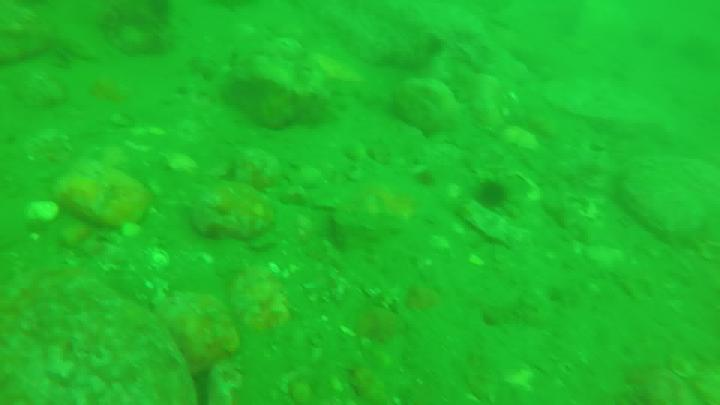echinus: (479, 180, 514, 209)
scallop: (504, 124, 541, 156), (25, 199, 63, 227), (165, 151, 198, 173), (119, 223, 145, 240), (152, 250, 173, 270)
